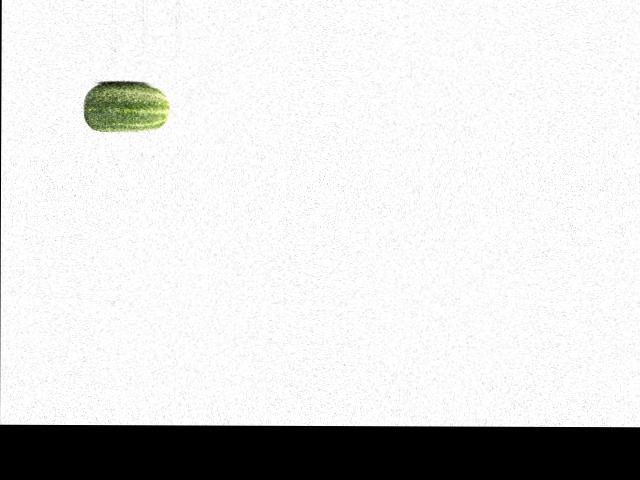cucumber: (82, 82, 168, 131)
